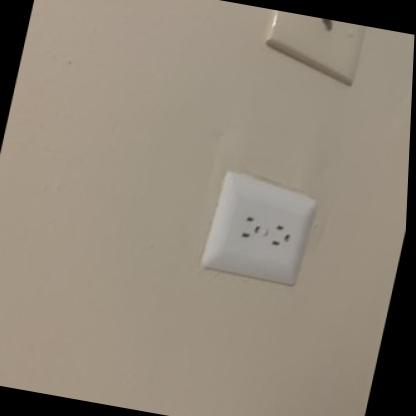OUTLET: (197, 174, 318, 286)
